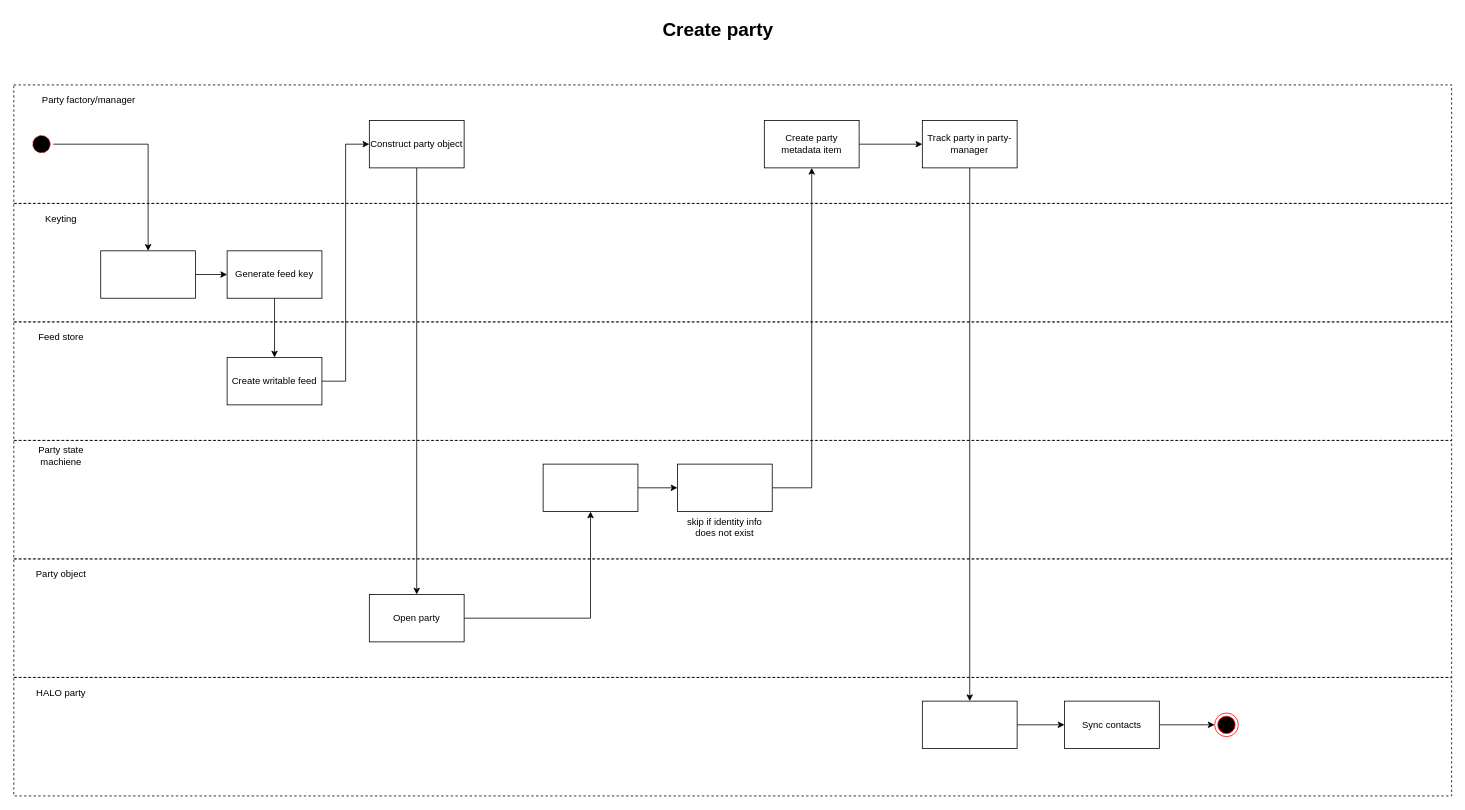
The diagram is 1465 pixels wide and 810 high, and some of its shapes have lost their labels. The shapes that lost their labels are listed below. From the top down, each one's centre as x and y in pixels, then its label:
[148,274]: Generate party key
[590,487]: Write party genesis and feed admission
[724,487]: Write identity info message
[969,724]: Add party to halo
